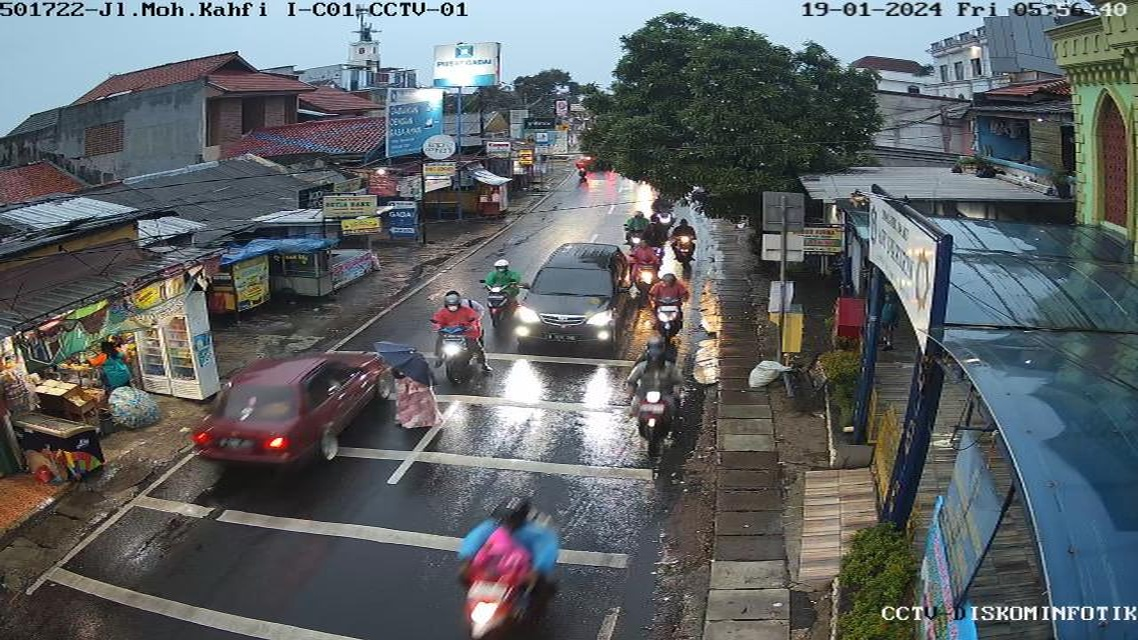Gerobak: (6, 410, 109, 486), (199, 245, 286, 319), (263, 235, 341, 311), (469, 166, 525, 222)
